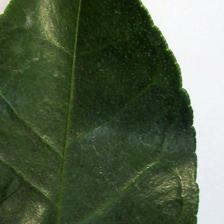healthy: (1, 0, 199, 224)
